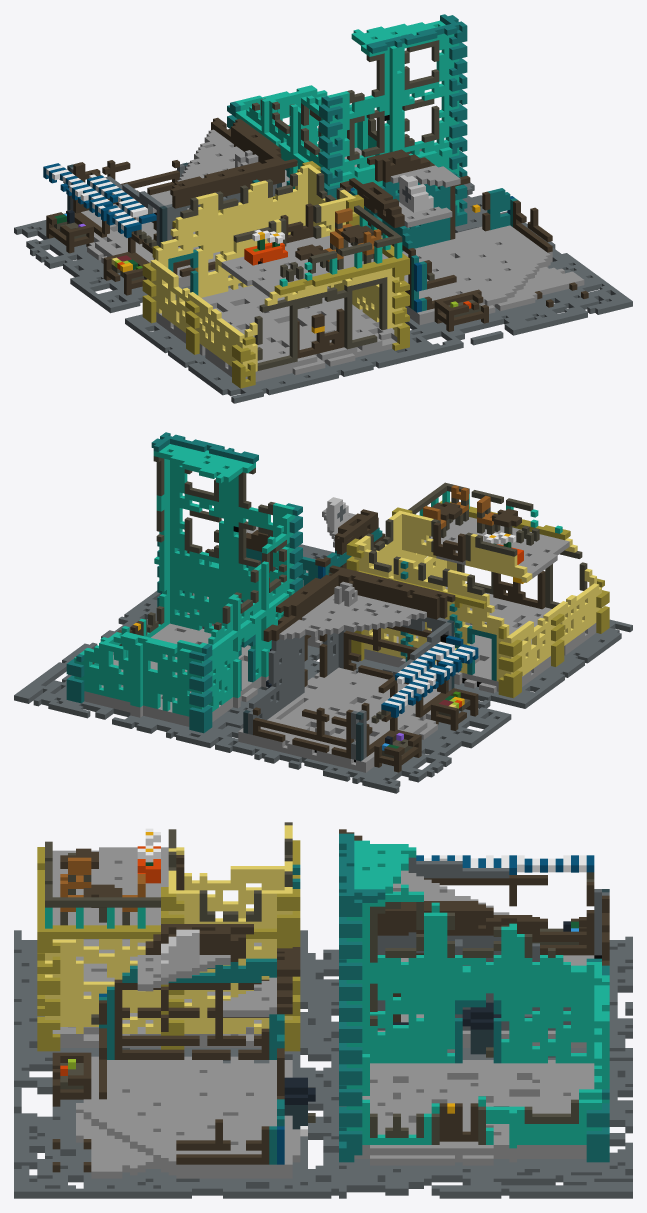
The model's file is building_small_8_destroyed.obj.
3 renders of one model, top to bottom at view 1: azimuth 30°, elevation 25°; view 2: azimuth 150°, elevation 25°; view 3: azimuth 270°, elevation 25°, orthographic. The views are drawn at different scales.
Size of the model in its own units: 8 by 3.9 by 8.
1 material, 1 textured.
